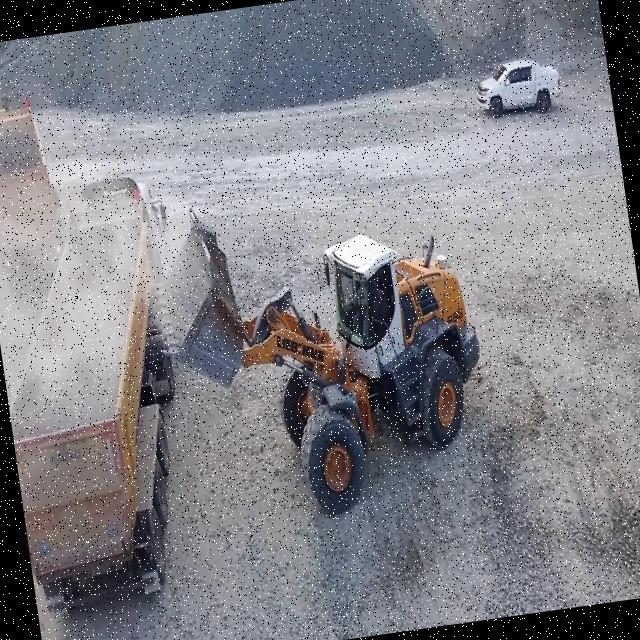Dump Truck: (0, 168, 220, 617), (0, 87, 70, 299)
Loader: (139, 170, 502, 536)
